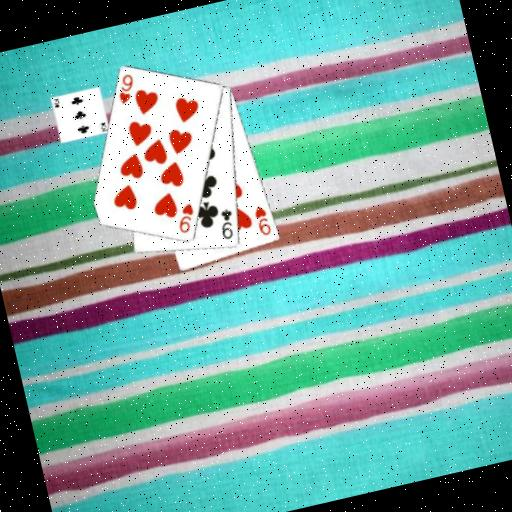9C: (214, 205, 240, 242)
9H: (171, 200, 200, 236), (112, 70, 140, 107), (250, 202, 274, 239)
